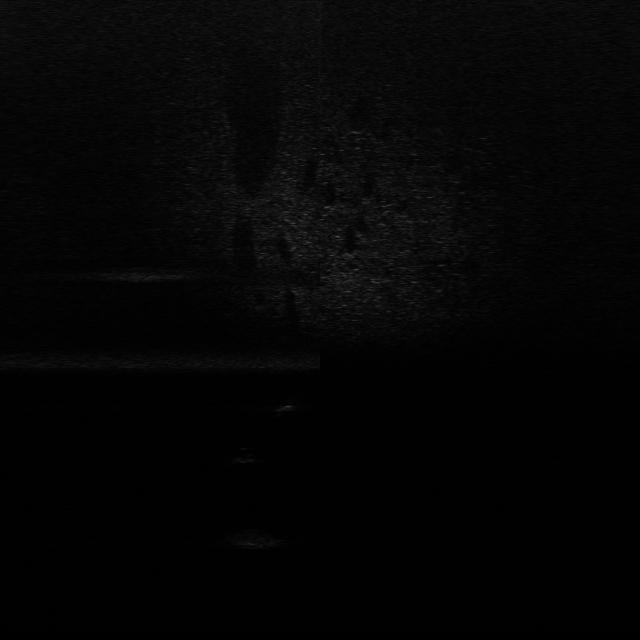ball: (230, 443, 260, 466)
circle cage: (224, 523, 290, 551)
human body: (266, 396, 304, 417)
